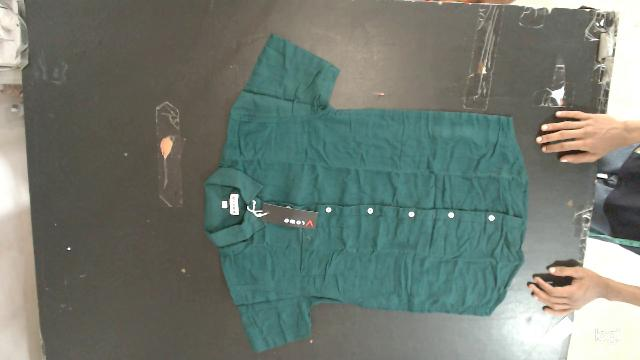new-garment: (204, 35, 528, 351)
